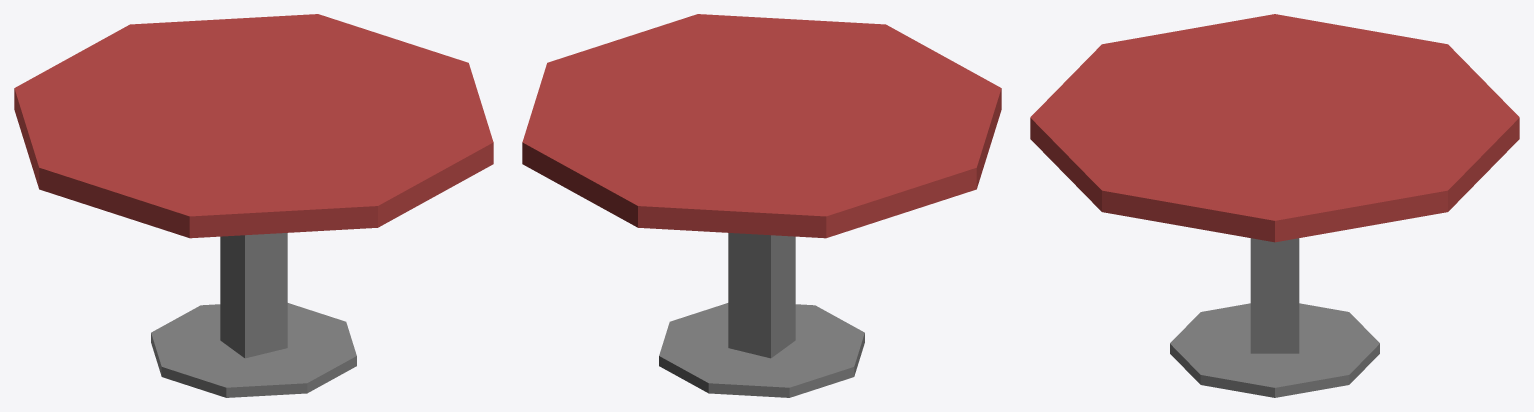
File: Table5.fbx
3 views of the same model, side by side, from view 1: azimuth 30°, elevation 25°; view 2: azimuth 150°, elevation 25°; view 3: azimuth 270°, elevation 25° (orthographic).
Visible parts, largest first — view 1: Cylinder; view 2: Cylinder; view 3: Cylinder.
Boxes of the visible parts, left/top/right/bottom form: Cylinder: left=14, top=14, right=493, bottom=397; Cylinder: left=522, top=14, right=1001, bottom=397; Cylinder: left=1030, top=14, right=1519, bottom=397.
Size of the model in its own units: 2.19 by 1.16 by 2.19.
